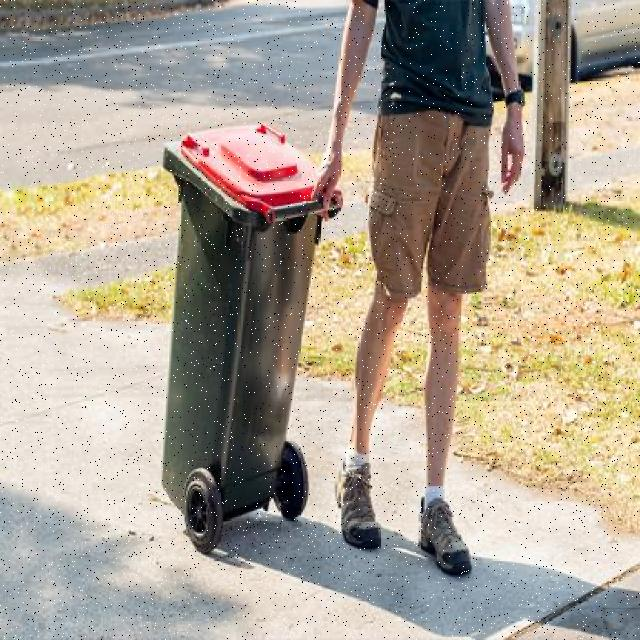garbage container: (152, 111, 346, 564)
